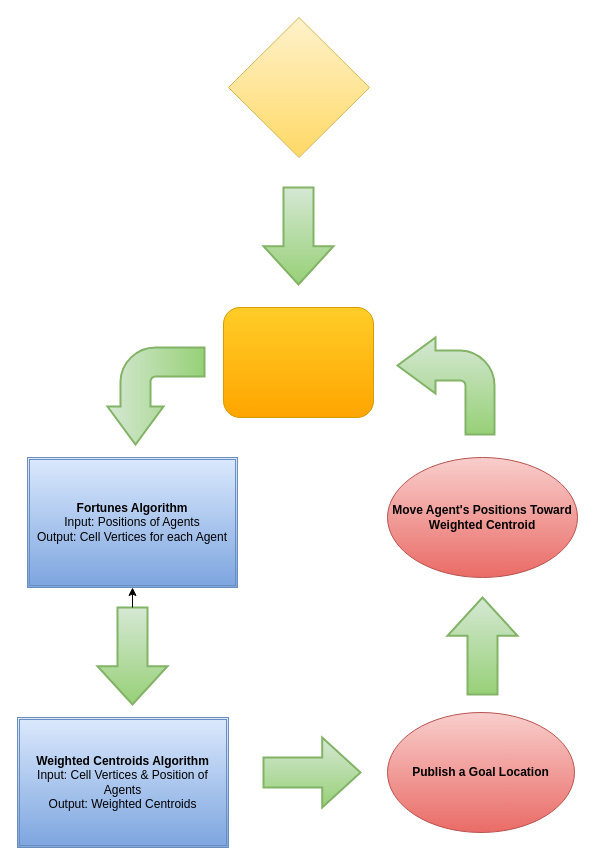
The diagram is 595 pixels wide and 865 high, and some of its shapes have lost their labels. The box of each missing label's shape, as (x1, y1, x2, y2) in pixels:
Receive a Vector of Active Agents: (222, 306, 374, 418)
Set Vector Initial Set of Active Agents: (228, 16, 370, 158)
